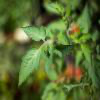Tomato leaf: (14, 46, 43, 92), (16, 23, 50, 42)
